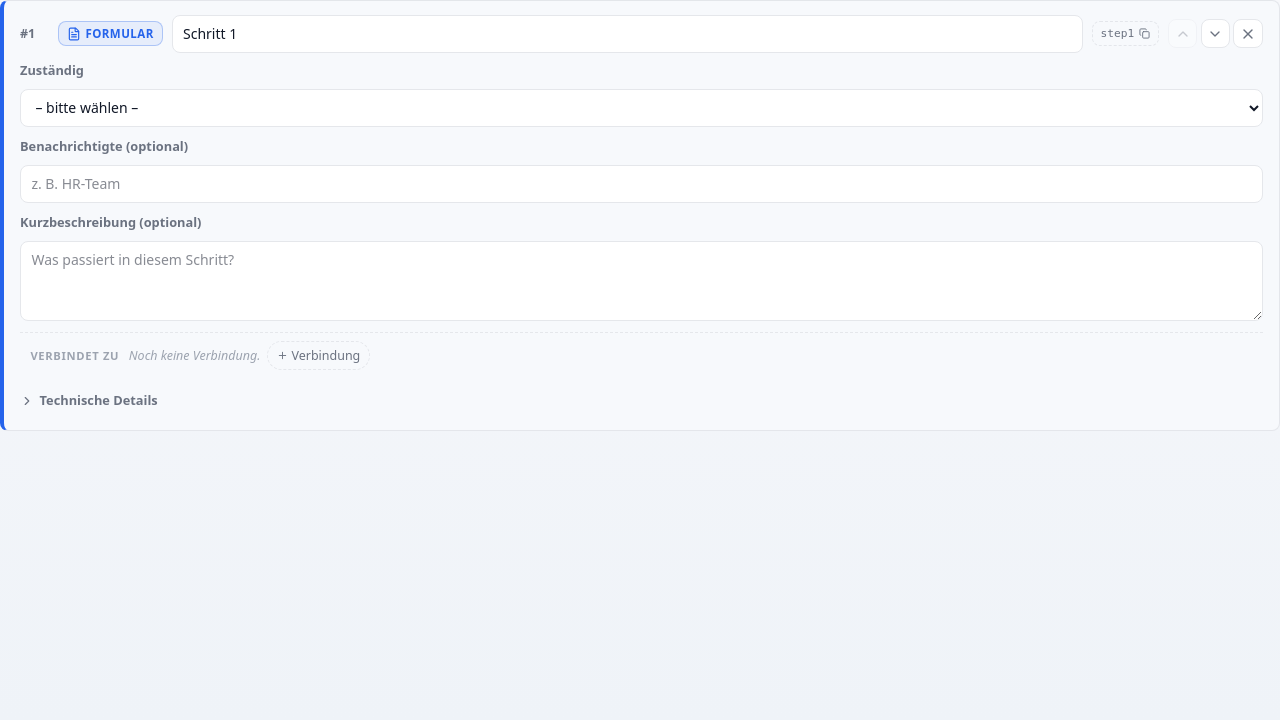
it: WorkflowBuilderStepCard › toggles technical details and renders Lucide chevron icons (svg) instead of text symbols
Expected: the 3rd icon is shown, [1175,26,1191,42]
Expected: the 7th icon is shown, [20,394,34,408]
What coordinates should you click on to do the following:
click the button "Technische Details"
I would click on:
 (89, 401)
Its box is [20,386,158,416].
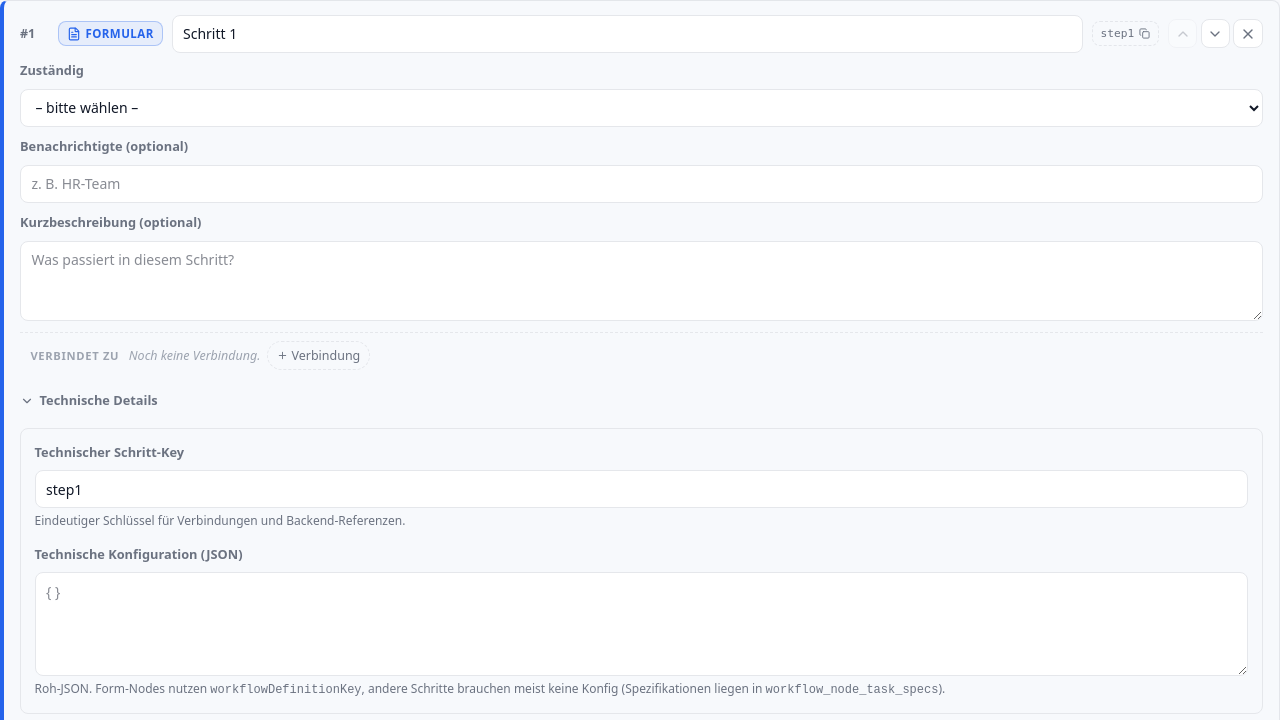
Now the button "Technische Details" is expanded, box [20,386,158,416]
